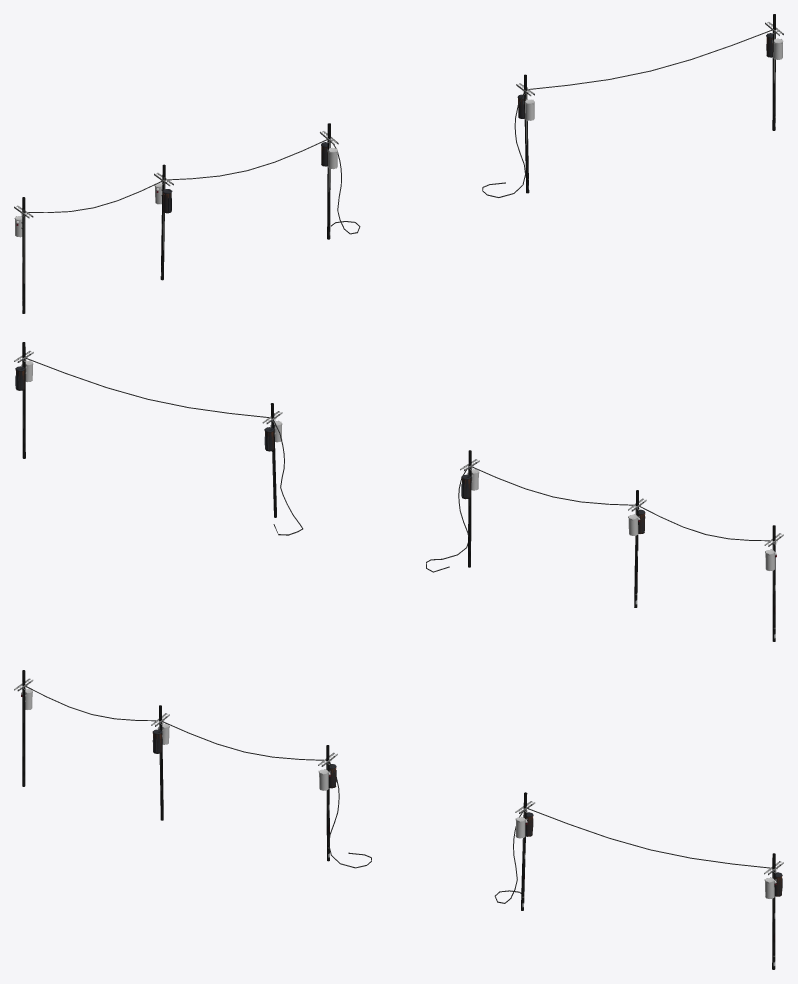
The model's file is mh_module_stefanosacerdoti_lightPolesWithWires_00.fbx.
3 renders of one model, top to bottom at view 1: azimuth 30°, elevation 25°; view 2: azimuth 150°, elevation 25°; view 3: azimuth 330°, elevation 25°, orthographic.
Parts seen in each view (by area): view 1: lightPole_03, lightPole_05, lightPole_02, lightPole_04, lightPole_01; view 2: lightPole_05, lightPole_03, lightPole_04, lightPole_02, lightPole_01; view 3: lightPole_05, lightPole_04, lightPole_03, lightPole_02, lightPole_01.
Boxes of the visible parts, <box> form: lightPole_03: <box>320,123,338,239</box>; lightPole_05: <box>765,14,783,130</box>; lightPole_02: <box>154,164,173,280</box>; lightPole_04: <box>516,74,534,193</box>; lightPole_01: <box>14,197,33,313</box>; lightPole_05: <box>14,342,33,458</box>; lightPole_03: <box>460,450,479,567</box>; lightPole_04: <box>262,403,282,517</box>; lightPole_02: <box>628,490,646,607</box>; lightPole_01: <box>764,525,783,641</box>; lightPole_05: <box>764,853,783,969</box>; lightPole_04: <box>515,792,535,910</box>; lightPole_03: <box>318,745,337,861</box>; lightPole_02: <box>151,705,169,820</box>; lightPole_01: <box>14,670,33,786</box>.
Bounding box in the file's own units: 5490 × 799 × 305.
